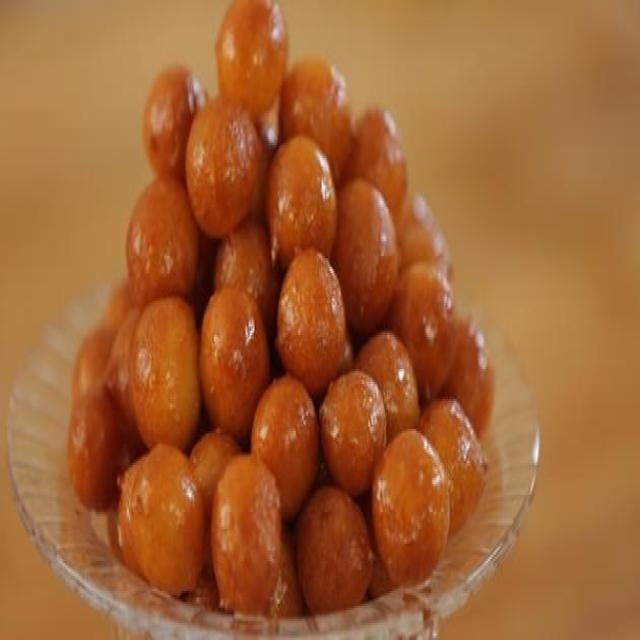Luqaimat: (95, 0, 508, 599)
